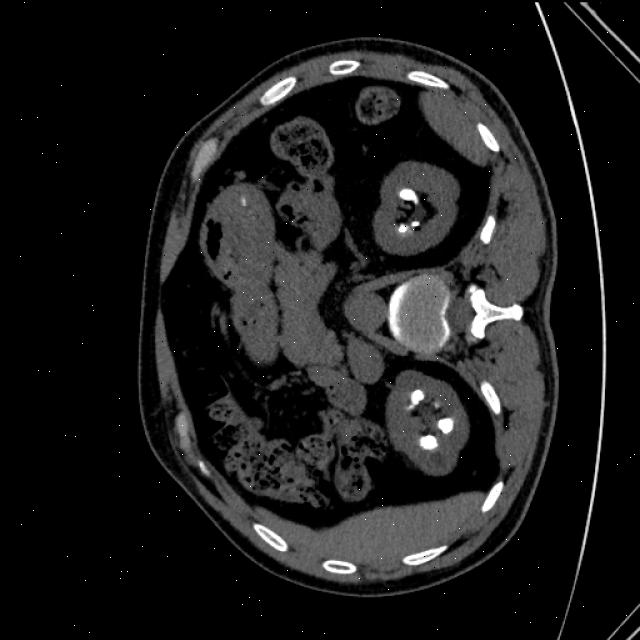kidneystone: (396, 215, 421, 232), (399, 188, 418, 204), (419, 434, 437, 449), (439, 418, 453, 432), (411, 389, 424, 404)
